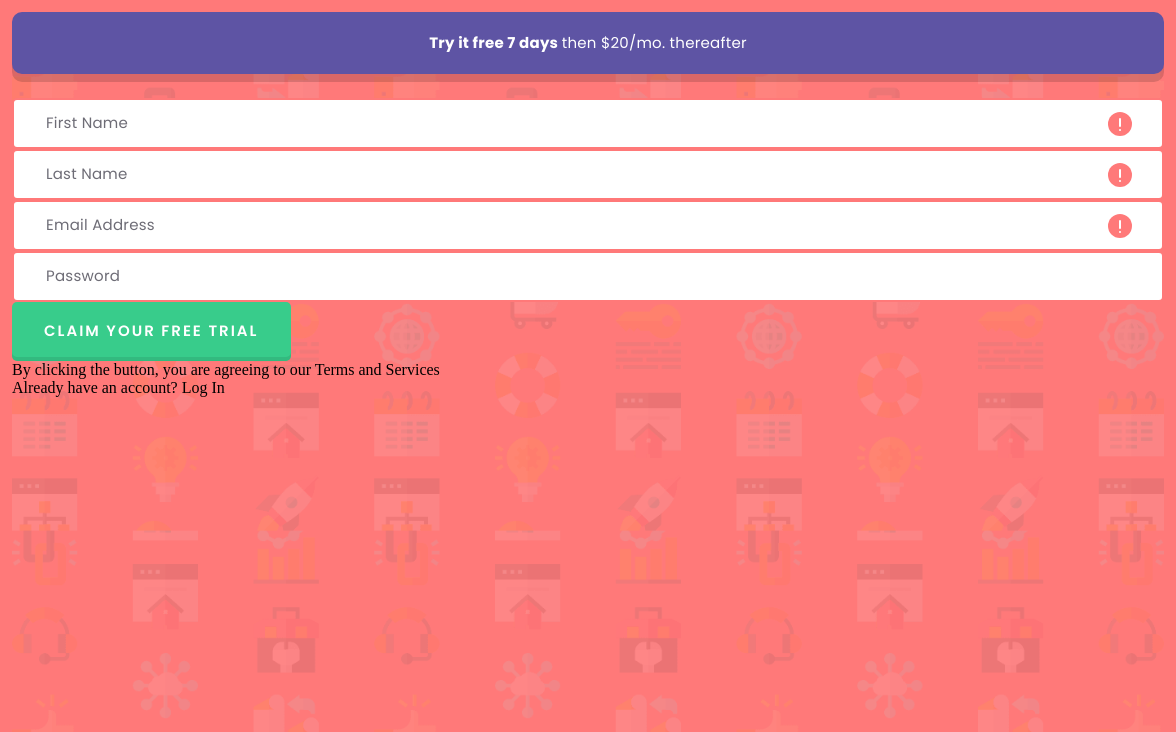
Test case: form - legacy version, unit tests › should switch register and login modes
Check: the field with placeholder "First Name" is shown, box [12,98,1164,149]
Check: the field with placeholder "Last Name" is shown, box [12,149,1164,200]
Click the link "Log In" at [203, 387], box [182,378,225,396]
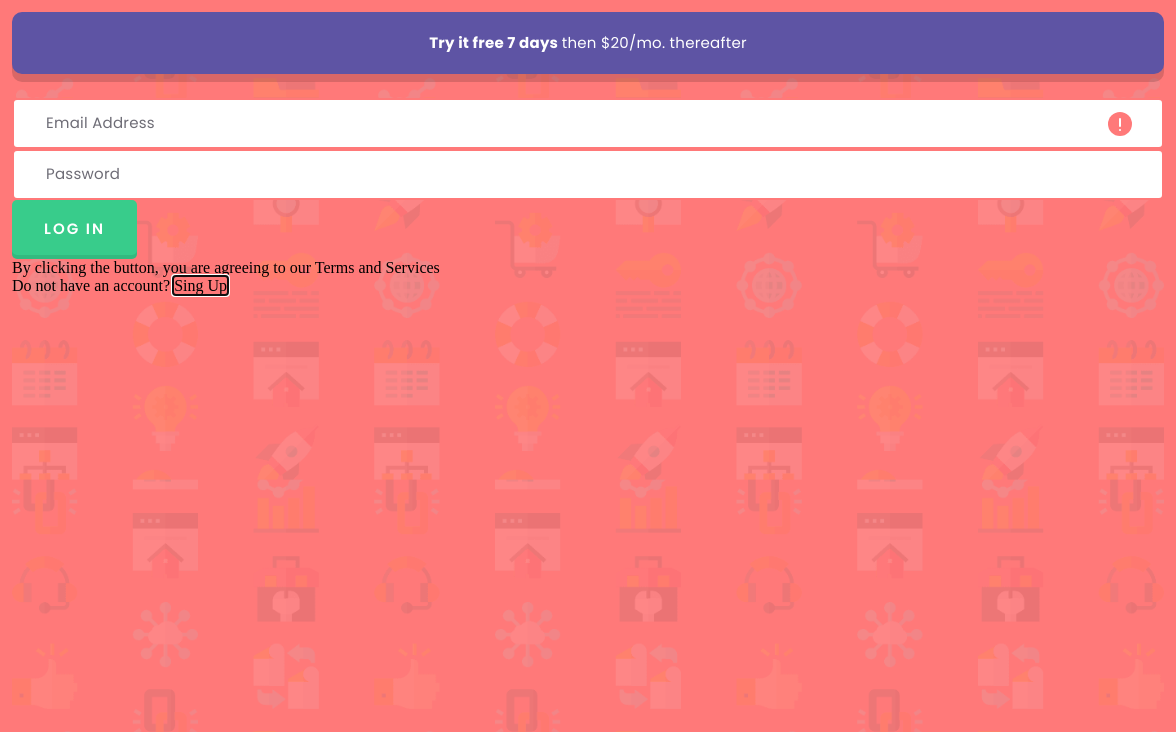
Check: the button "LOG IN" is shown, box [12,200,137,259]
Check: the text "Do not have an account? Sing Up" is shown, box [12,276,227,294]
Check: the link "Sing Up" is shown
Click the link "Sing Up" at [201, 285], box [174,276,227,294]
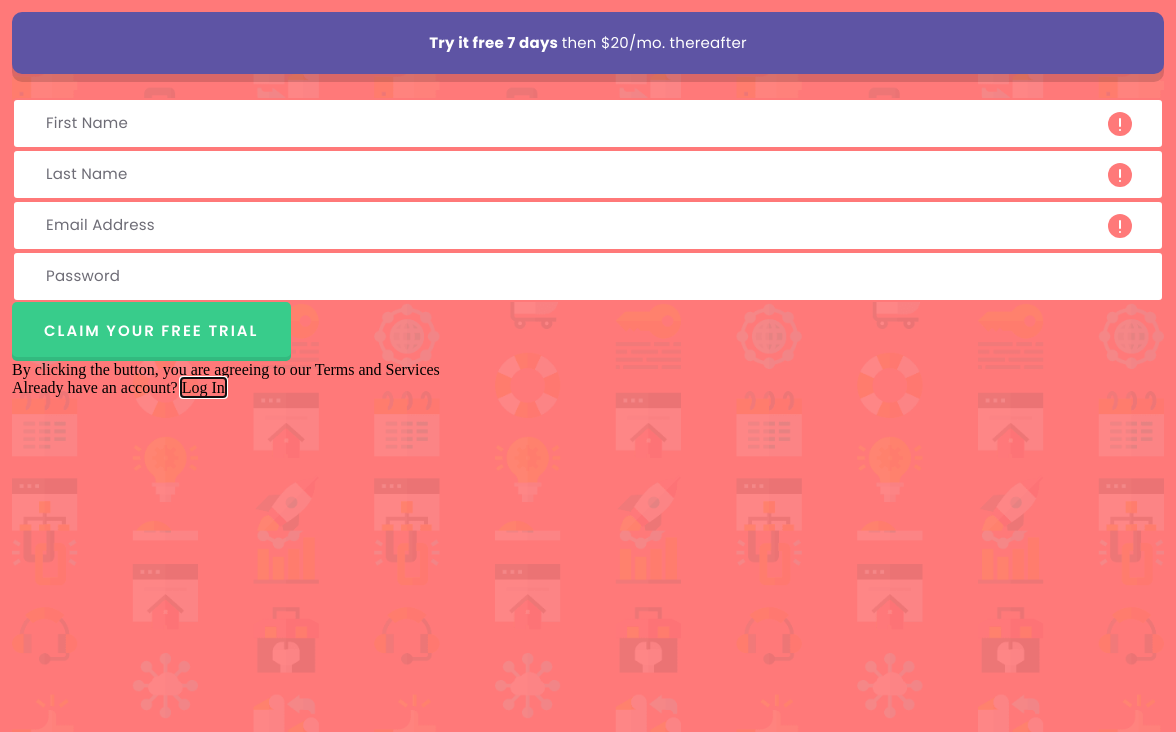
Check: the field with placeholder "First Name" is shown, box [12,98,1164,149]
Check: the field with placeholder "Last Name" is shown, box [12,149,1164,200]
Check: the button "CLAIM YOUR FREE TRIAL" is shown, box [12,302,290,361]
